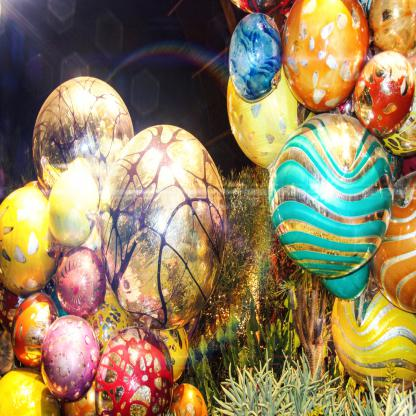Ball: (0, 75, 229, 416), (228, 0, 416, 394)
